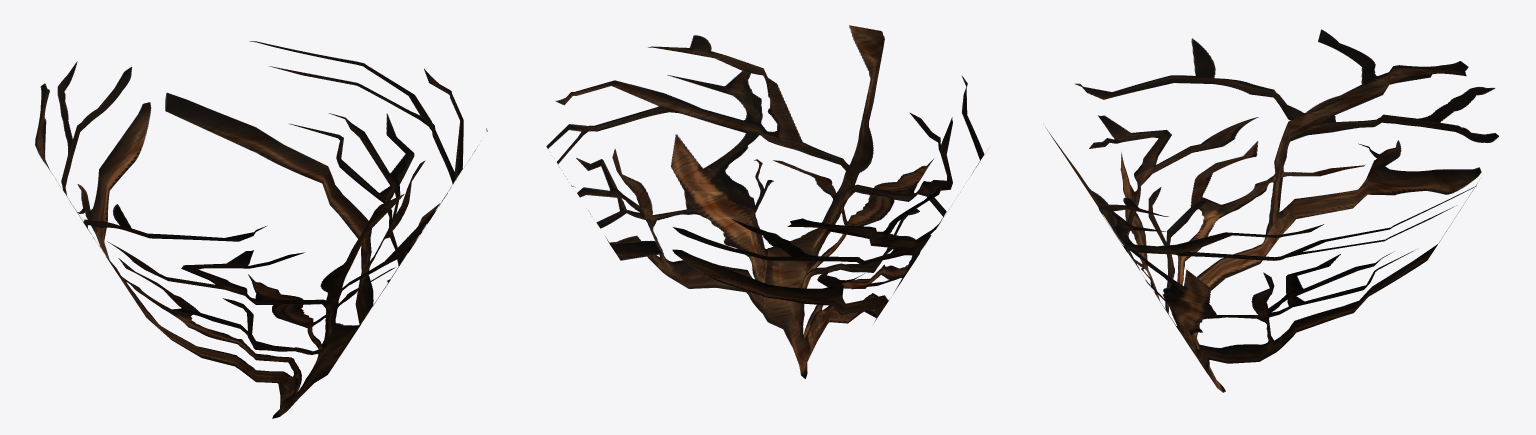
Rendered from branches.FBX.
3 views of the same model, side by side, from view 1: azimuth 30°, elevation 25°; view 2: azimuth 150°, elevation 25°; view 3: azimuth 270°, elevation 25° (orthographic).
Parts seen in each view (by area): view 1: Cylinder001; view 2: Cylinder001; view 3: Cylinder001.
Boxes of the visible parts, <box> form: Cylinder001: <box>35,41,487,418</box>; Cylinder001: <box>546,25,985,378</box>; Cylinder001: <box>1045,29,1498,392</box>.
Size of the model in its own units: 6461 by 4143 by 6461.
Materials: 1 (1 with a texture image).
